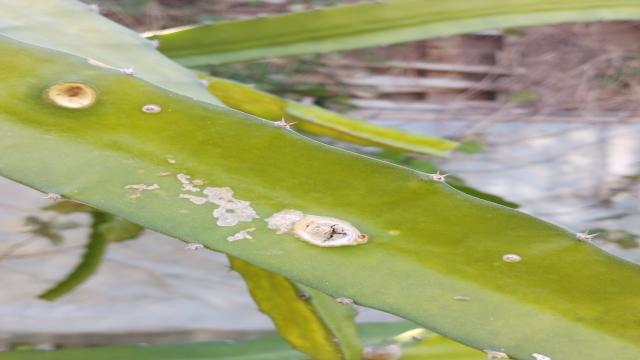stemcanker: (109, 142, 385, 267), (42, 81, 100, 115), (140, 98, 161, 118), (500, 250, 523, 265)
